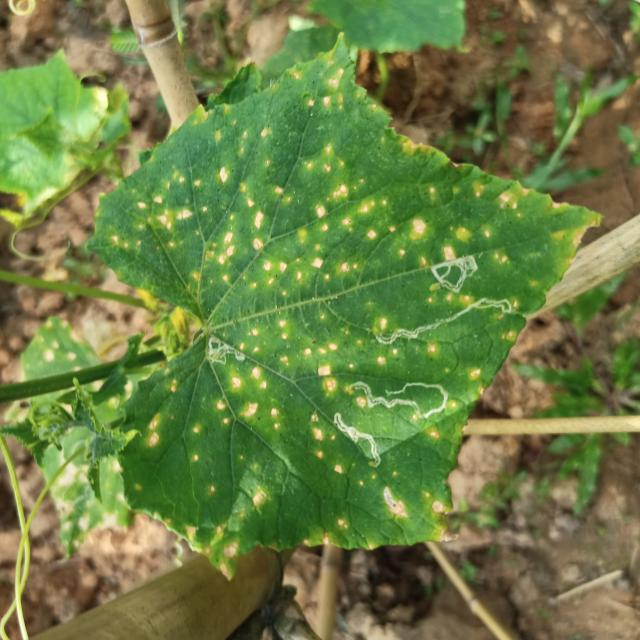disease_cucumber: (127, 68, 545, 286), (165, 363, 285, 465), (239, 314, 343, 400), (187, 488, 267, 580), (361, 474, 454, 523), (308, 411, 344, 484), (300, 515, 350, 553), (375, 342, 440, 369), (143, 412, 165, 452), (430, 292, 472, 307)
